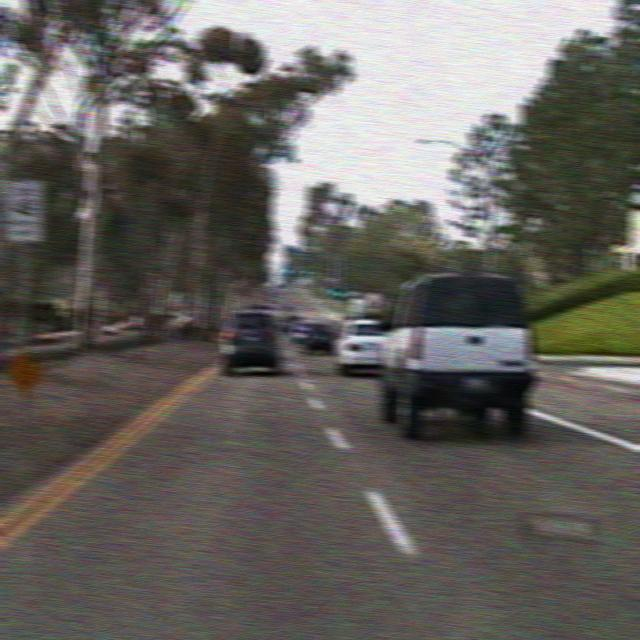speedLimit45: (4, 178, 45, 242)
